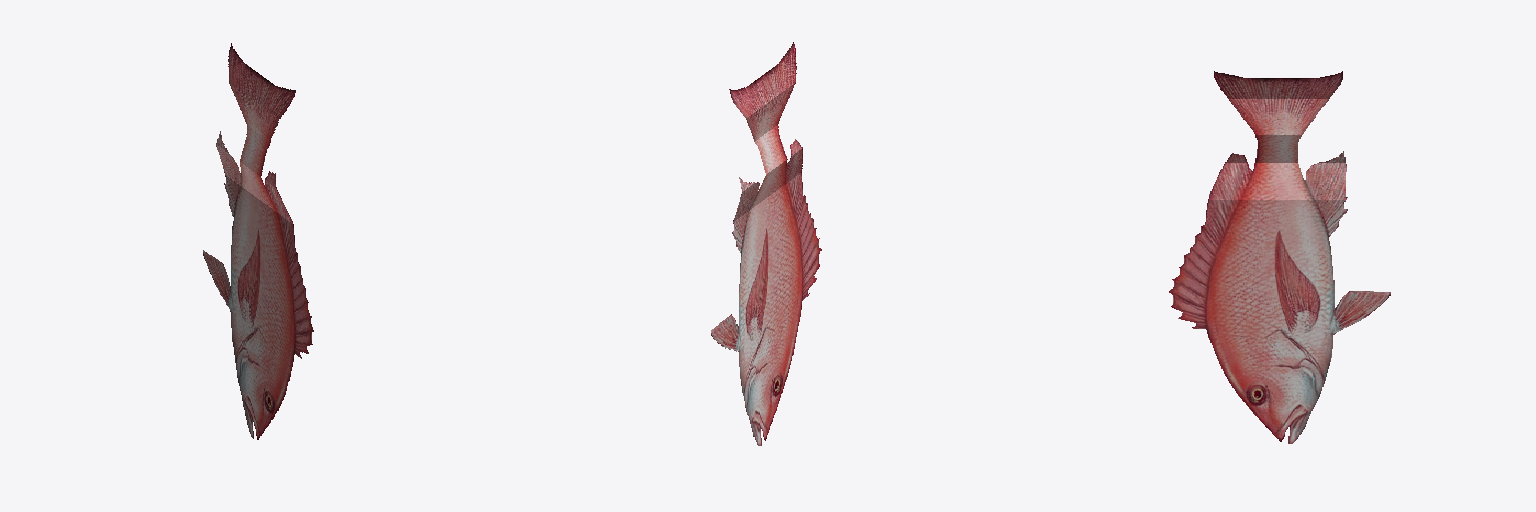
3 renders of one model, left to right at view 1: azimuth 30°, elevation 25°; view 2: azimuth 150°, elevation 25°; view 3: azimuth 270°, elevation 25°, orthographic.
Size of the model in its own units: 0.0781 by 1.98 by 1.06.
Materials: 1 (1 with a texture image).